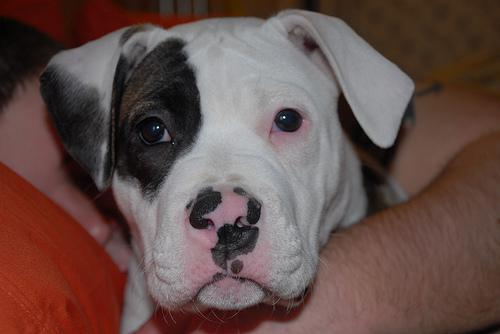dog: (38, 8, 414, 311)
